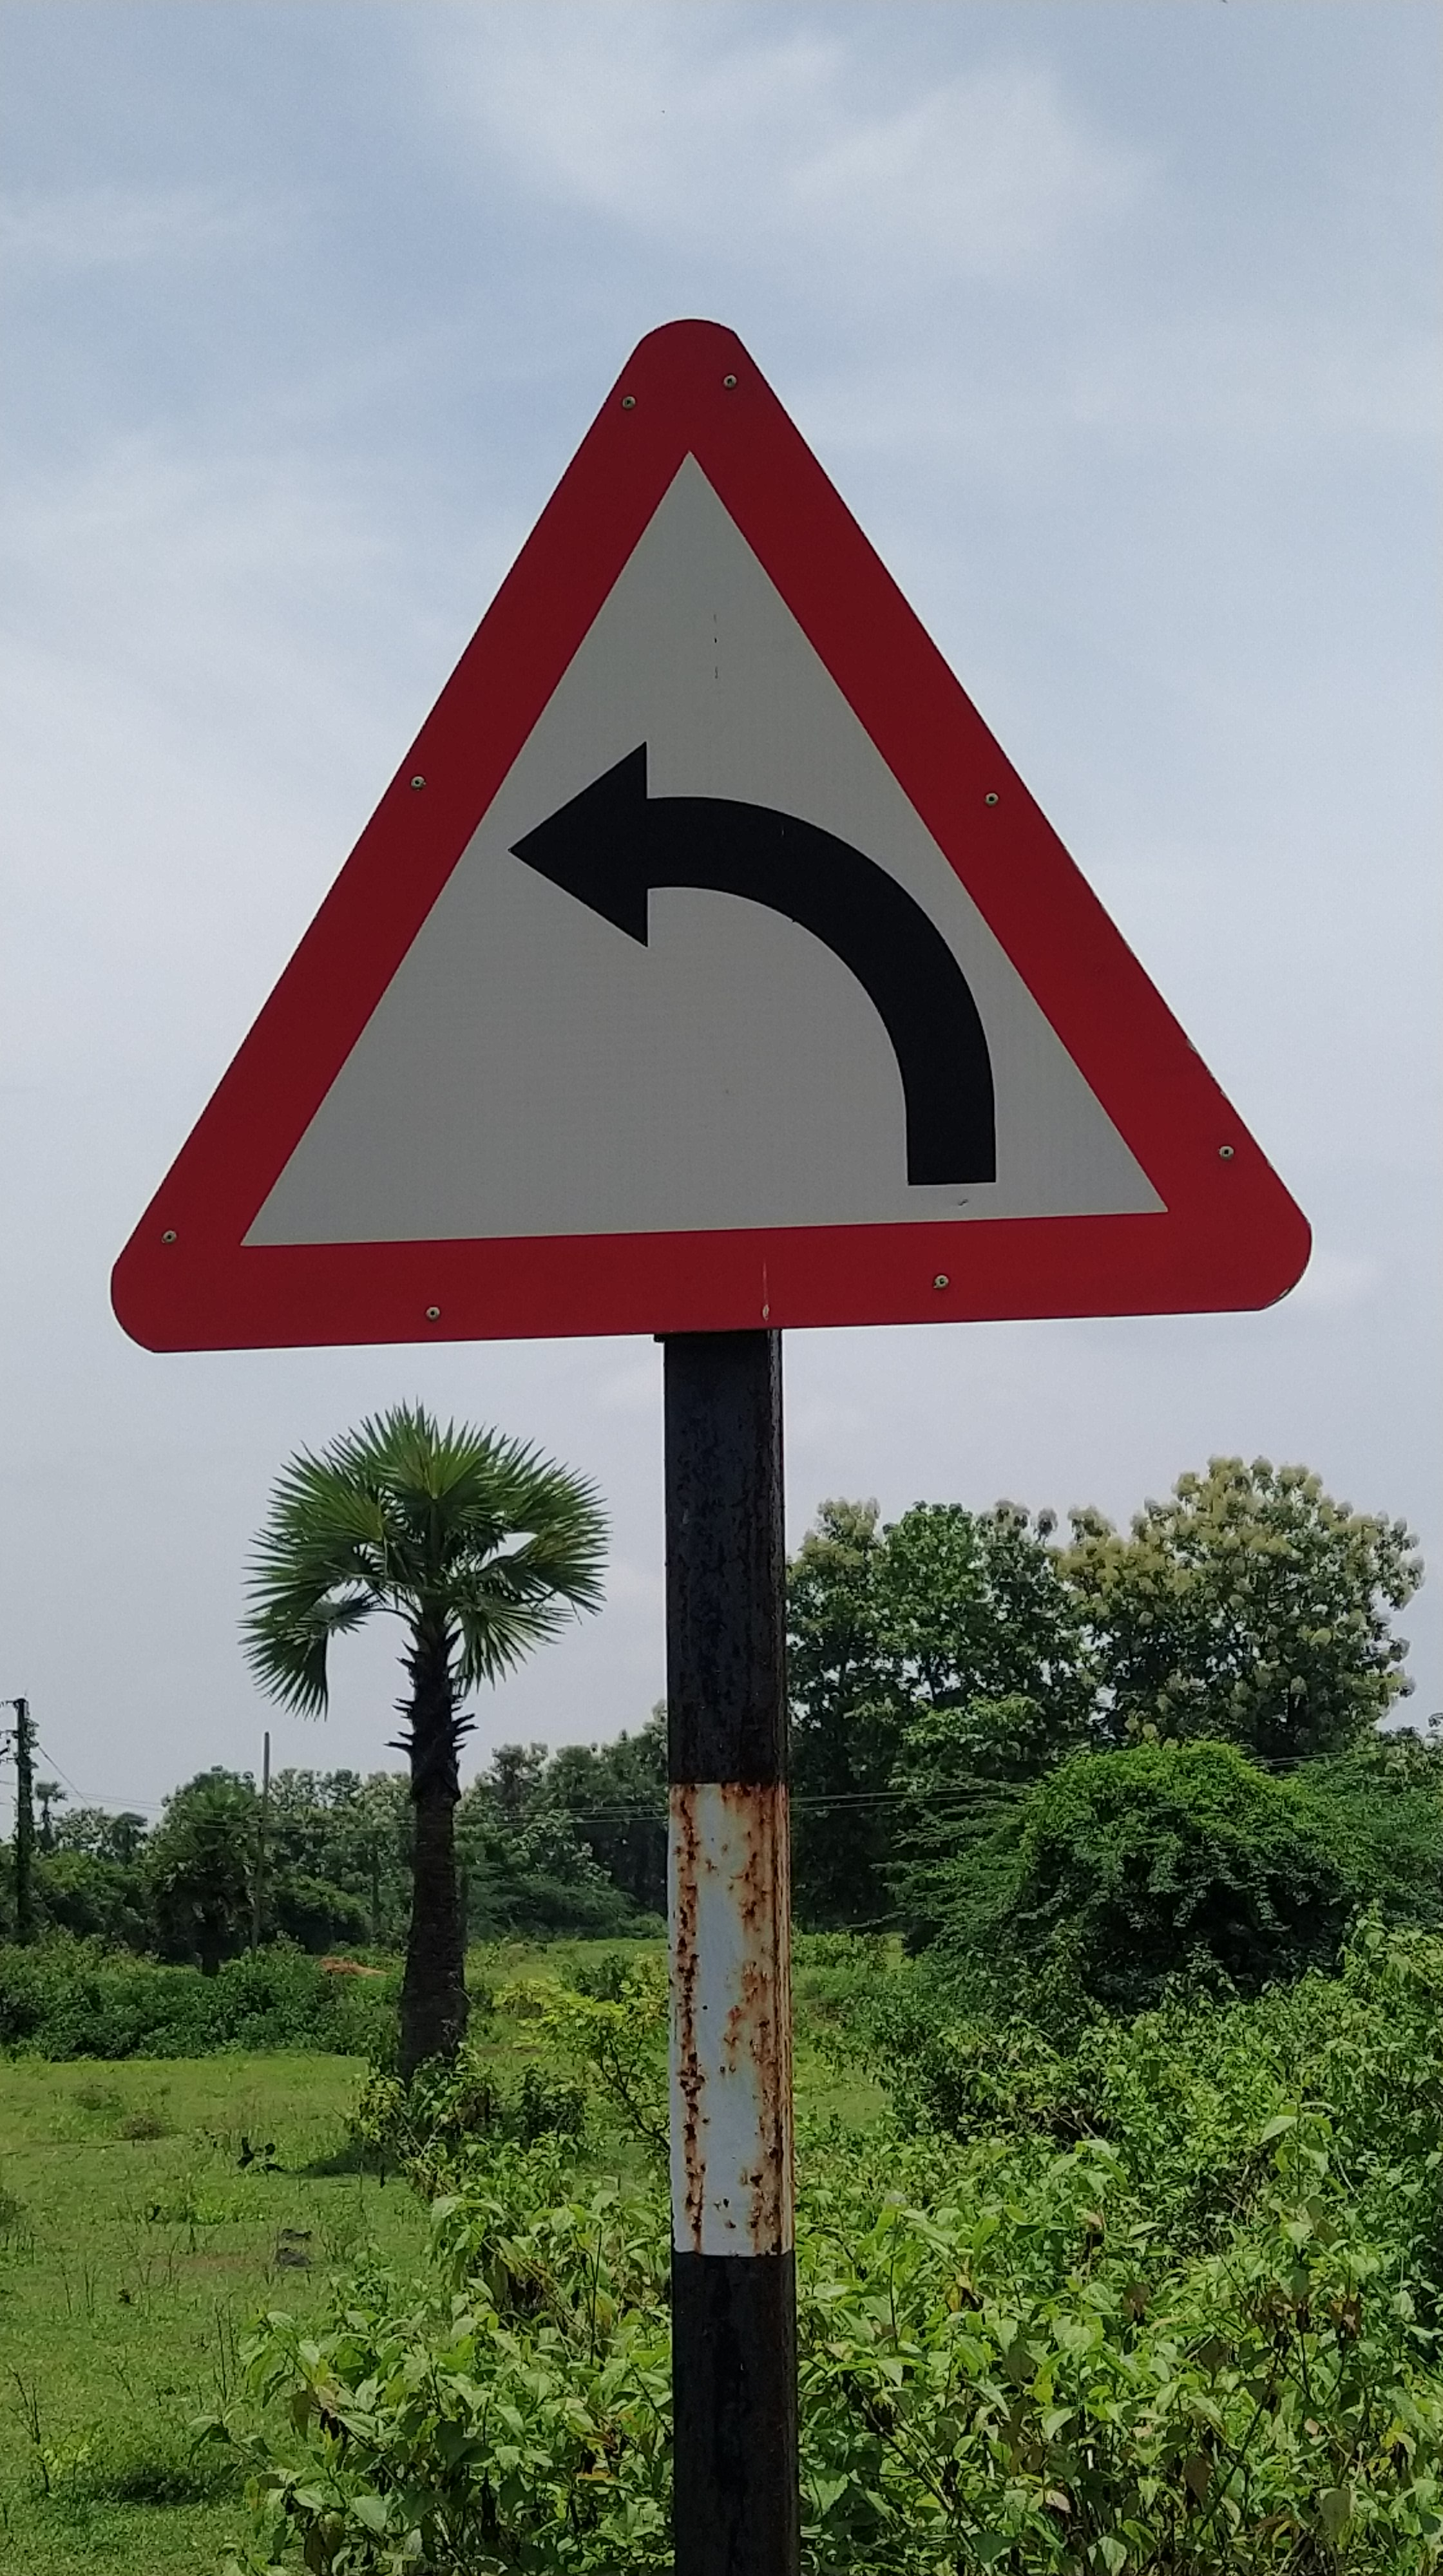Turn left: (83, 260, 1339, 1419)
